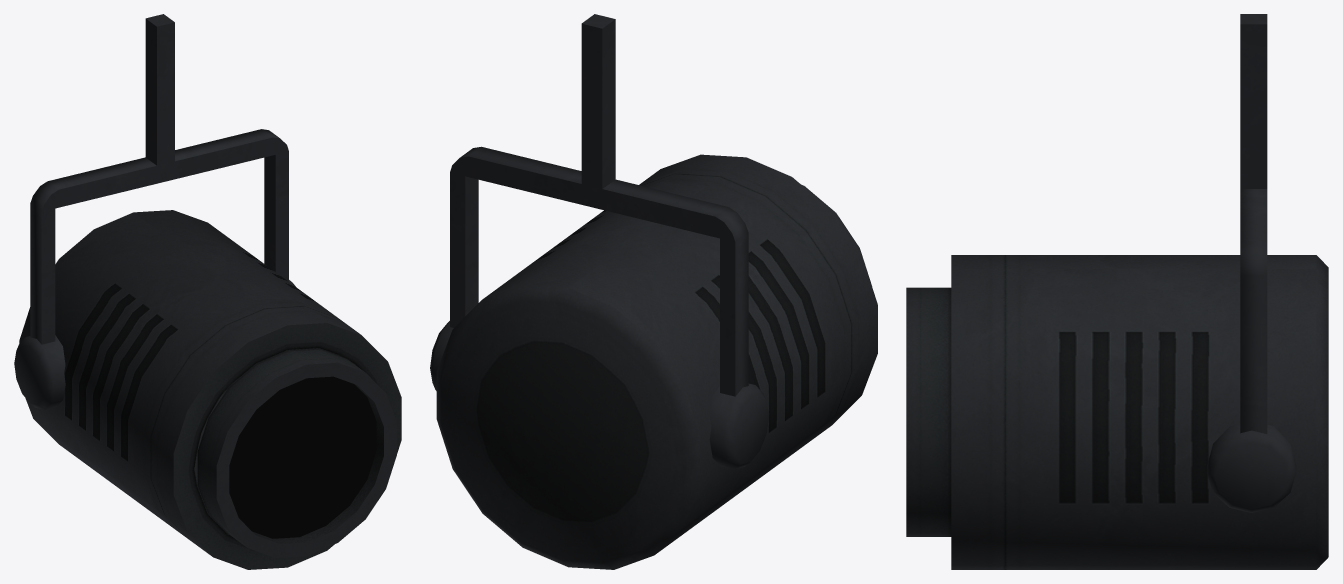
Rendered from Spotlight.fbx.
The picture shows the model from 3 angles, left to right: view 1: azimuth 30°, elevation 25°; view 2: azimuth 150°, elevation 25°; view 3: azimuth 270°, elevation 25°; orthographic projection. The views are drawn at different scales.
Visible parts, largest first — view 1: Spotlight, SpotlightHolder; view 2: Spotlight, SpotlightHolder; view 3: Spotlight, SpotlightHolder.
Boxes of the visible parts, x1=… form: Spotlight: x1=19, y1=210, x2=401, y2=569; SpotlightHolder: x1=14, y1=14, x2=295, y2=409; Spotlight: x1=436, y1=154, x2=877, y2=569; SpotlightHolder: x1=430, y1=14, x2=768, y2=469; Spotlight: x1=906, y1=255, x2=1328, y2=569; SpotlightHolder: x1=1207, y1=14, x2=1296, y2=512.
Bounding box in the file's own units: 23.69 × 39.09 × 27.88.
